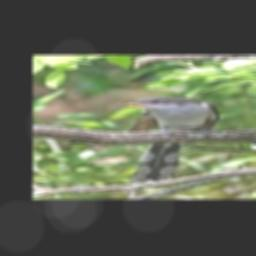Cuckoo: (115, 96, 220, 183)
